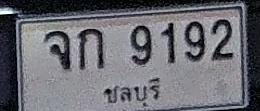1: (161, 22, 175, 63)
2: (211, 19, 233, 60)
9: (184, 20, 205, 61), (130, 25, 151, 64)
A01: (78, 28, 104, 69)
A08: (44, 30, 70, 70)
CBI: (100, 75, 164, 107)
